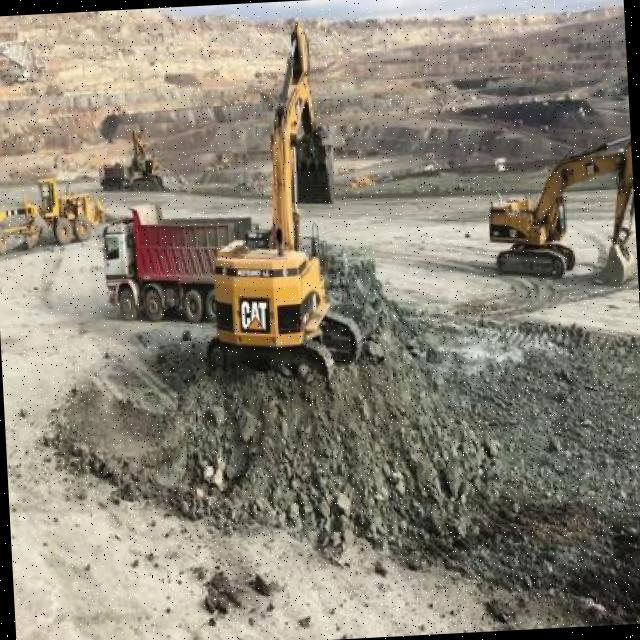Dump Truck: (102, 194, 255, 318), (97, 158, 129, 188)
Excavator: (192, 17, 362, 385), (484, 126, 638, 294), (128, 126, 162, 190)
